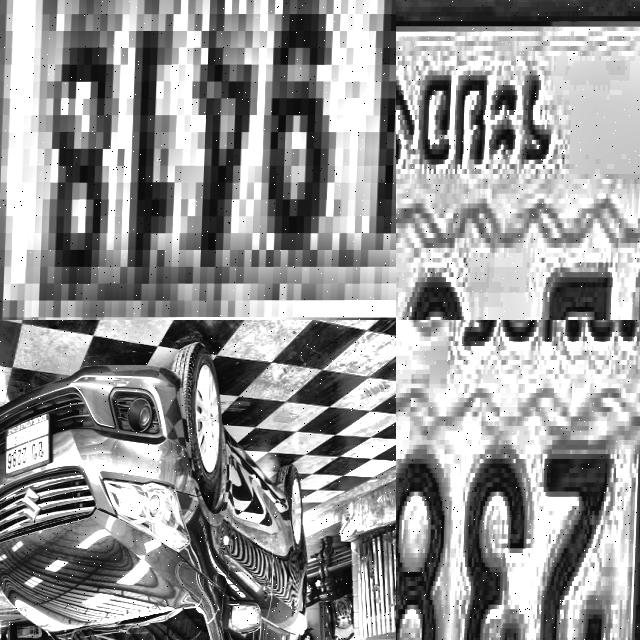license-plate: (0, 0, 396, 320), (396, 0, 640, 320), (396, 320, 640, 640), (3, 409, 53, 480)
